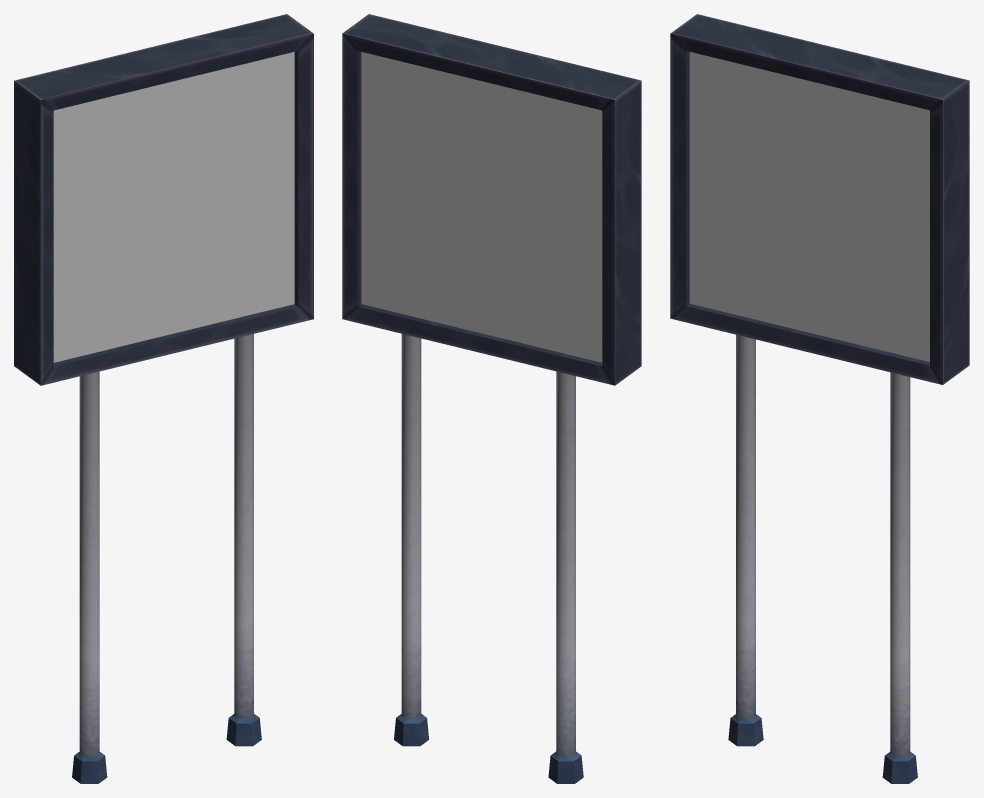
File: jiedao_BJ_012.fbx
3 renders of one model, left to right at view 1: azimuth 30°, elevation 25°; view 2: azimuth 150°, elevation 25°; view 3: azimuth 330°, elevation 25°, orthographic.
Parts seen in each view (by area): view 1: BJ012; view 2: BJ012; view 3: BJ012.
Boxes of the visible parts, bbox=[...] form: BJ012: bbox=[14, 14, 313, 783]; BJ012: bbox=[342, 14, 641, 783]; BJ012: bbox=[670, 14, 969, 783].
Bounding box in the file's own units: 99.72 × 16.91 × 245.
